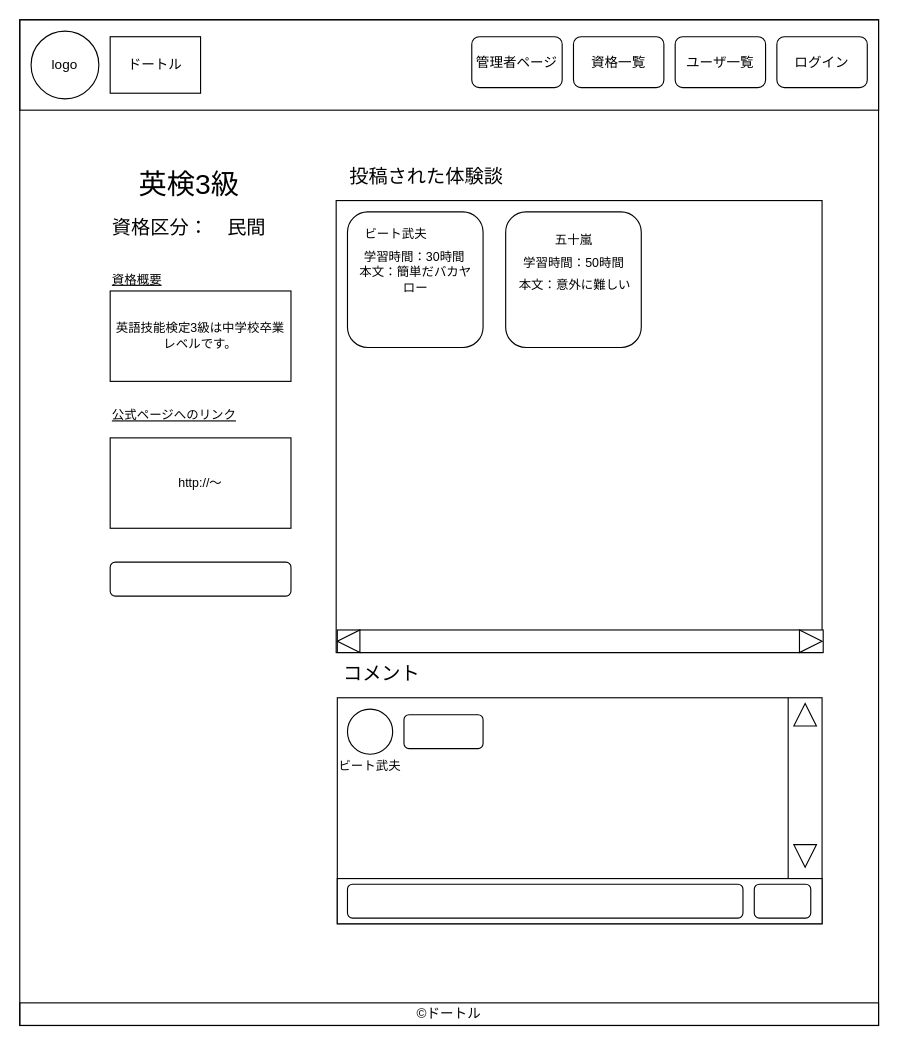
Some shapes in this 898 by 1045 pixel diagram are drawn without their labels. Here are the shapes that lost their labels. From the top down, the box of each, then its label:
(109, 561, 291, 596): 編集
(346, 708, 393, 754): 写真
(403, 714, 483, 749): REDRAM
(753, 883, 811, 918): 送信
